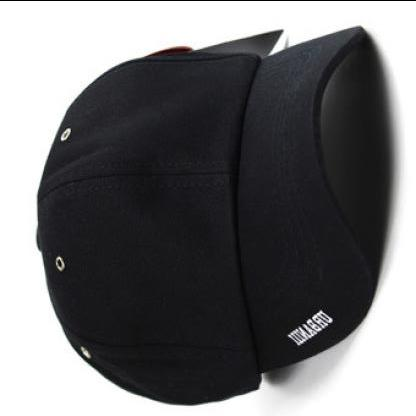cap: (27, 16, 388, 405)
